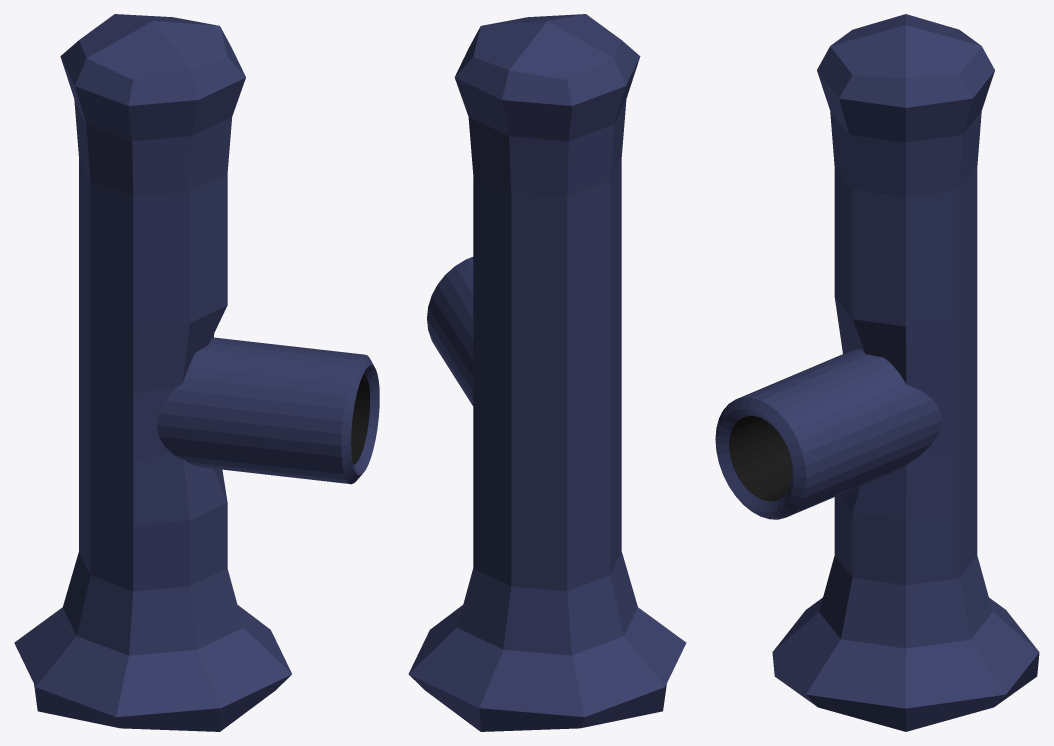
The model's file is pillars.fbx.
The picture shows the model from 3 angles, left to right: view 1: azimuth 30°, elevation 25°; view 2: azimuth 150°, elevation 25°; view 3: azimuth 270°, elevation 25°; orthographic projection.
Parts seen in each view (by area): view 1: Pillar; view 2: Pillar; view 3: Pillar.
Boxes of the visible parts, box(x1,y1,x2,y2) form: Pillar: box(14, 14, 379, 731); Pillar: box(408, 14, 686, 731); Pillar: box(715, 14, 1039, 731).
Size of the model in its own units: 4.6 by 10.2 by 4.54.
